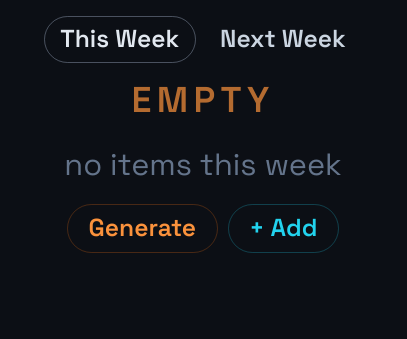
Scenario: ShoppingJunctionWidget — empty state › clicking + Add reveals item name input
Click the button "+ Add" at coordinates (283, 228), box top-left (228, 204), bottom-right (339, 253)
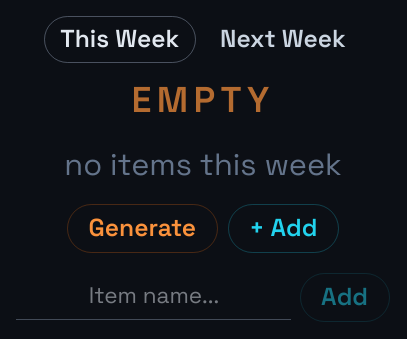
Expected: the field with placeholder "Item name..." is shown, top-left (16, 275), bottom-right (292, 317)
